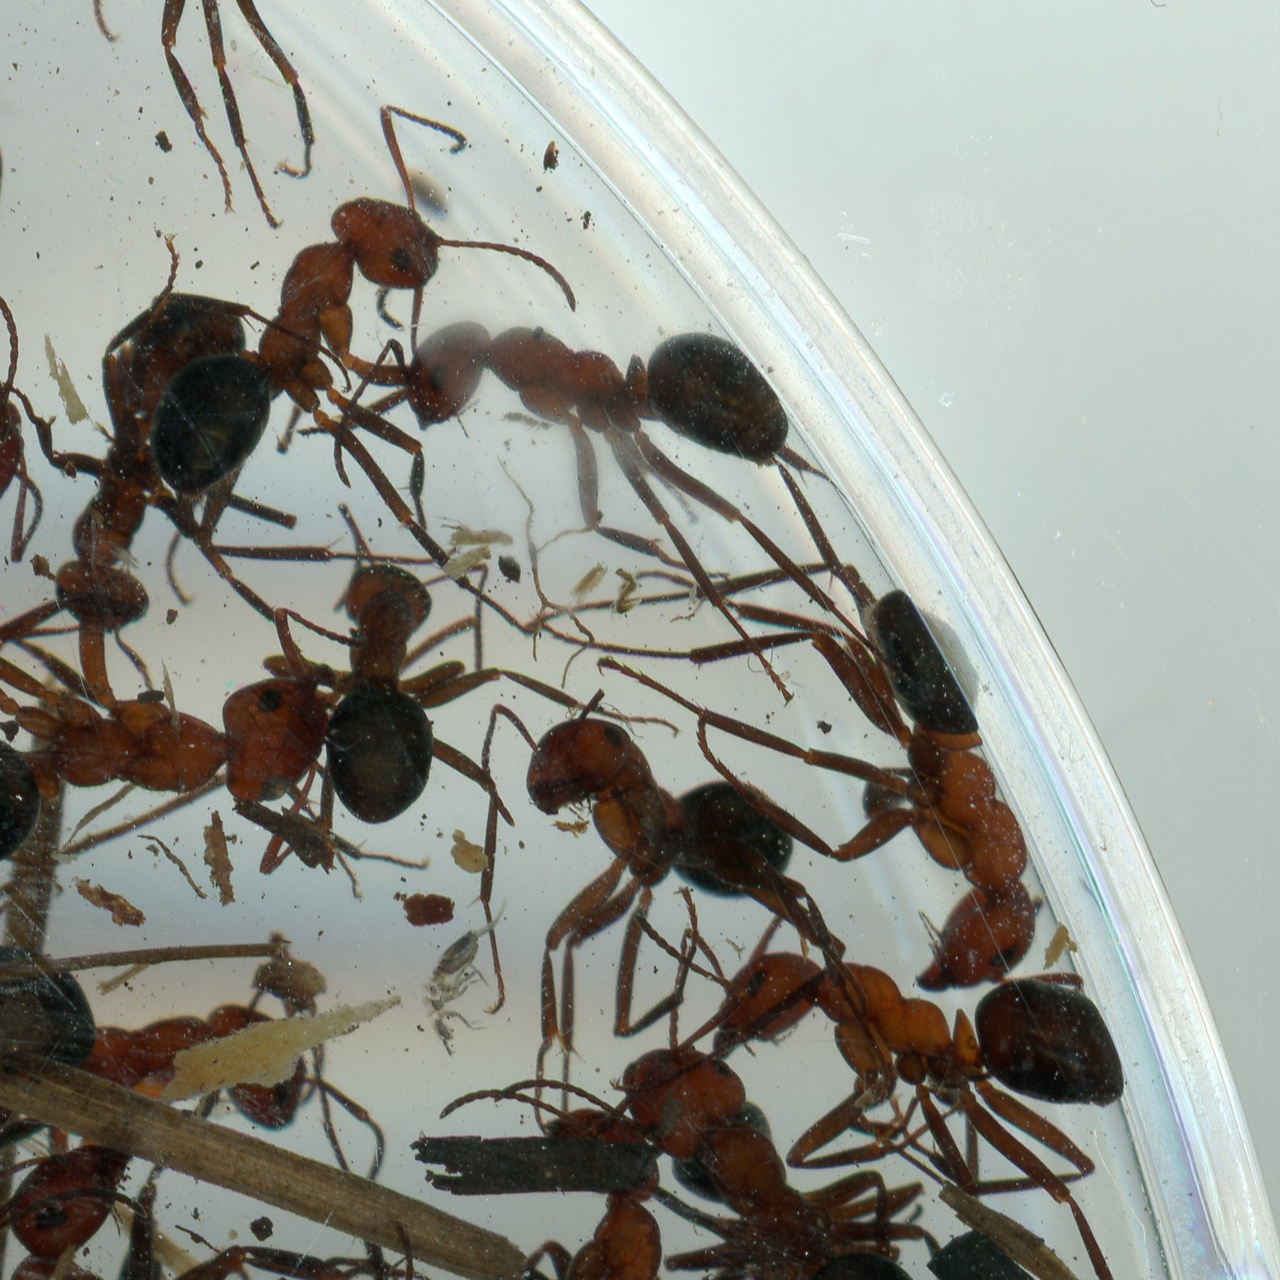arthropod: (101, 73, 622, 625), (409, 871, 1042, 1280), (328, 240, 849, 719), (659, 906, 1198, 1280), (680, 557, 1050, 996), (469, 683, 867, 1054), (0, 563, 436, 897), (8, 258, 318, 654), (0, 930, 393, 1185), (0, 0, 384, 244), (305, 485, 523, 840), (0, 1118, 373, 1280), (433, 1075, 700, 1280), (0, 267, 72, 574), (420, 888, 509, 1060)
